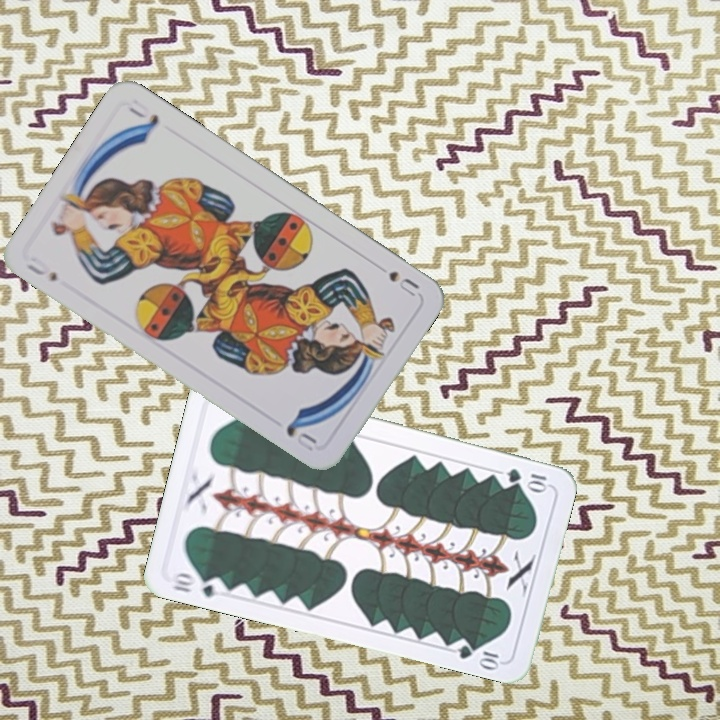G10: (167, 568, 228, 600), (503, 464, 551, 493)
SU: (384, 266, 422, 299), (22, 253, 60, 284)
